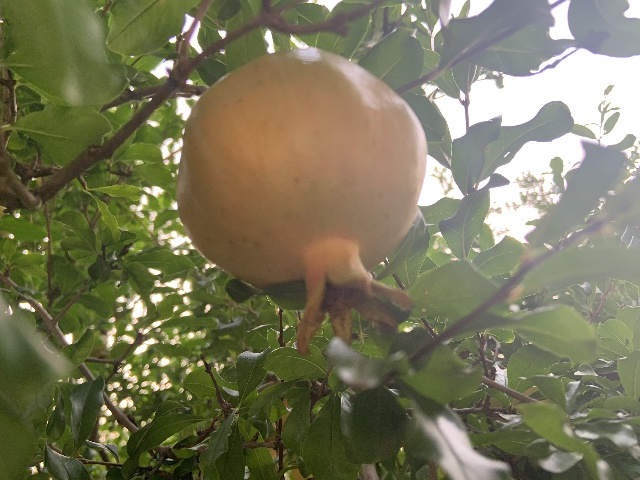mid-growth: (176, 48, 425, 356)
